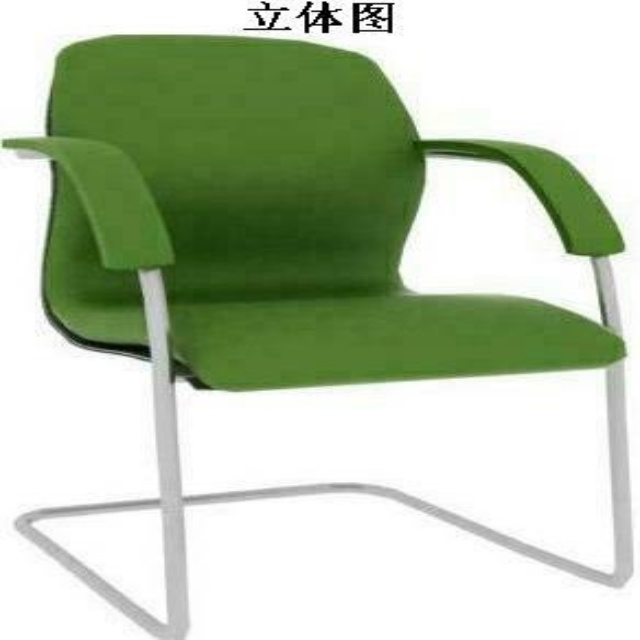obstacle: (4, 35, 629, 638)
